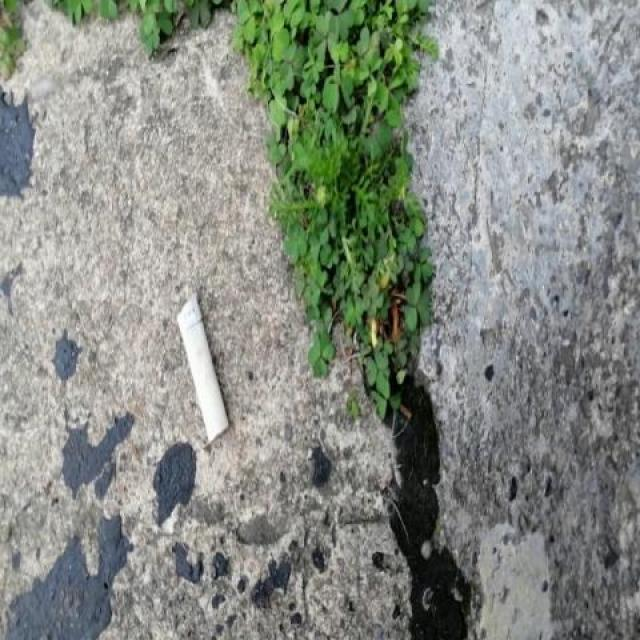non-organic waste: (171, 290, 233, 450)
